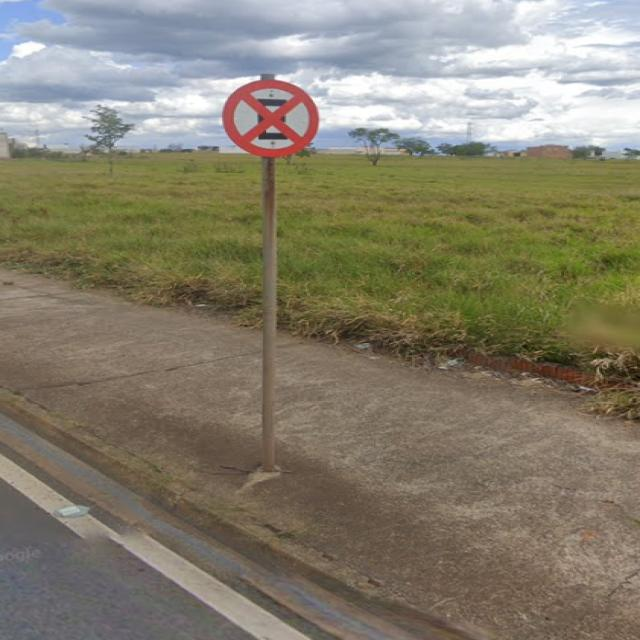no parking: (199, 74, 342, 162)
